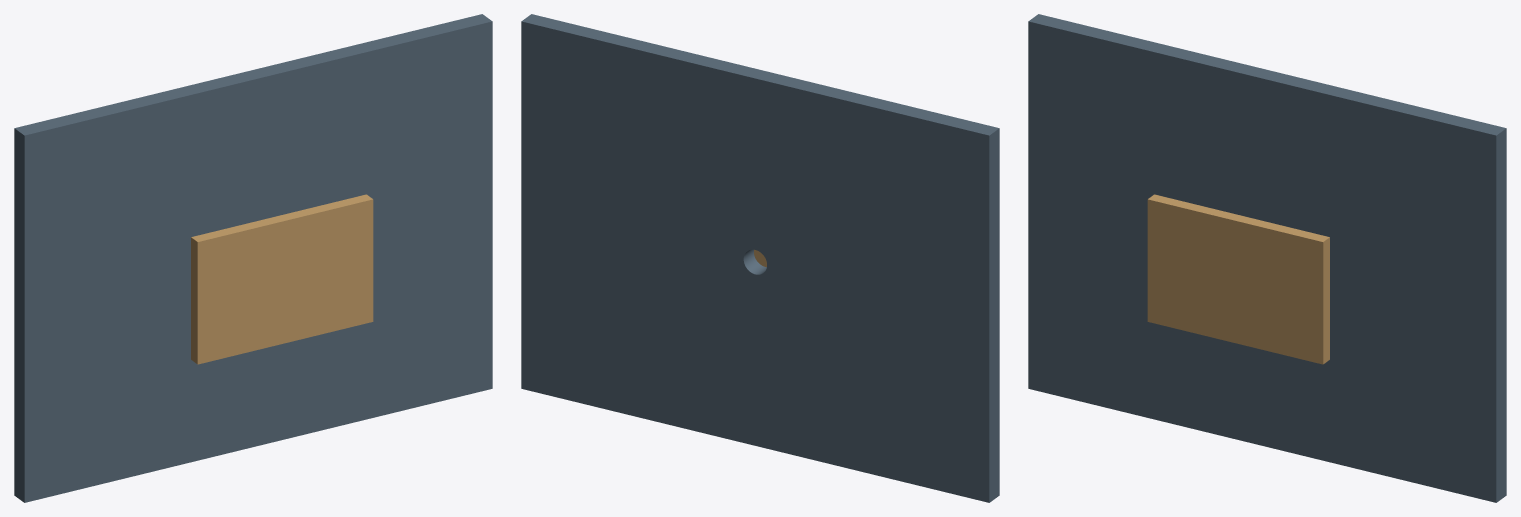
The model's file is demo-paroi-alesage.glb.
3 views of the same model, side by side, from view 1: azimuth 30°, elevation 25°; view 2: azimuth 150°, elevation 25°; view 3: azimuth 330°, elevation 25° (orthographic).
Visible parts, largest first — view 1: Paroi_alesage, Plaque_volet; view 2: Paroi_alesage; view 3: Paroi_alesage, Plaque_volet.
Part boxes in pixels (left/top/right/bottom): Paroi_alesage: left=14, top=14, right=492, bottom=502; Plaque_volet: left=191, top=194, right=373, bottom=364; Paroi_alesage: left=521, top=14, right=999, bottom=502; Paroi_alesage: left=1028, top=14, right=1506, bottom=502; Plaque_volet: left=1147, top=194, right=1329, bottom=364.
Bounding box in the file's own units: 0.16 × 0.12 × 0.022.
